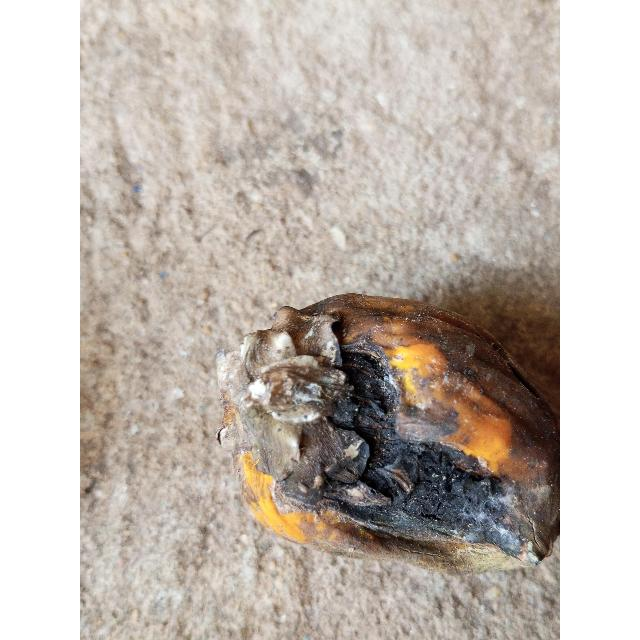damaged: (216, 294, 559, 573)
